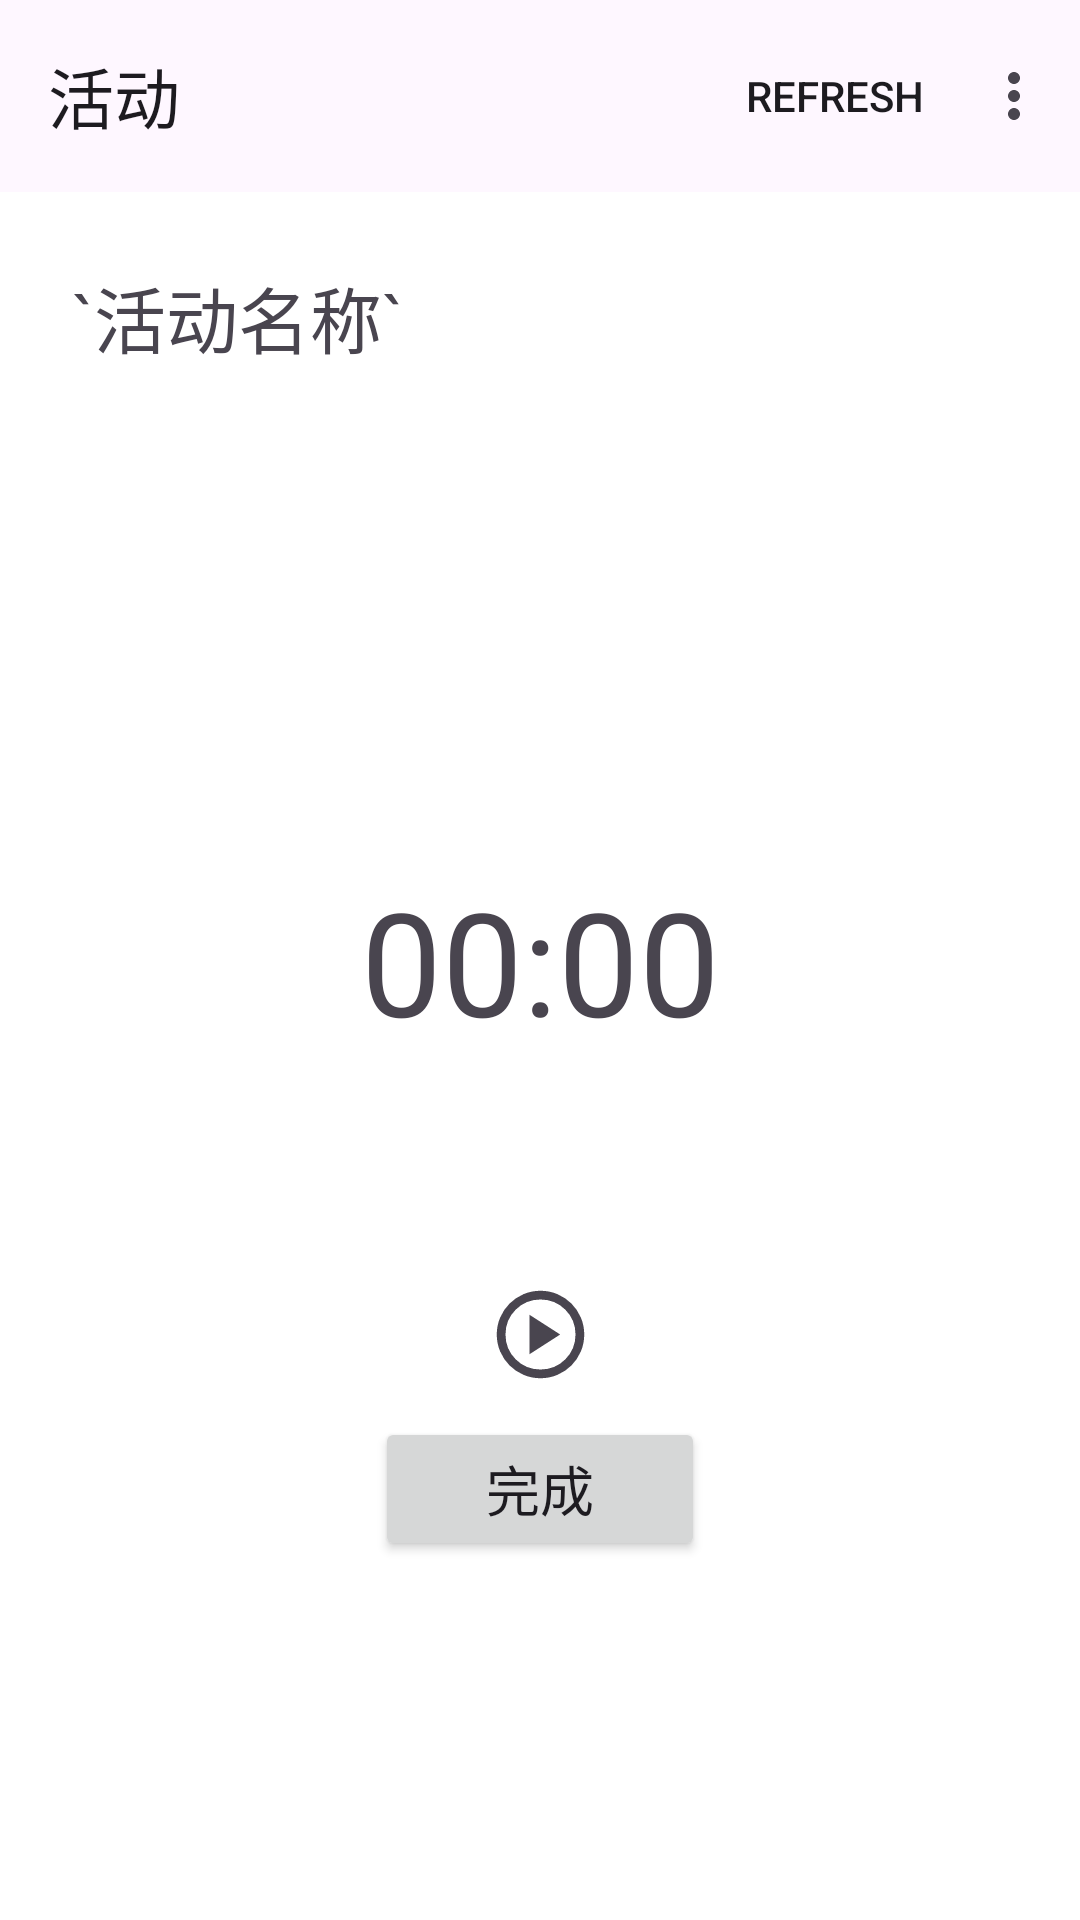

Icons on this 1080px×1920px Android screen, each with its box as region(x1, y1, x2, y2):
play: region(496, 1290, 585, 1379)
